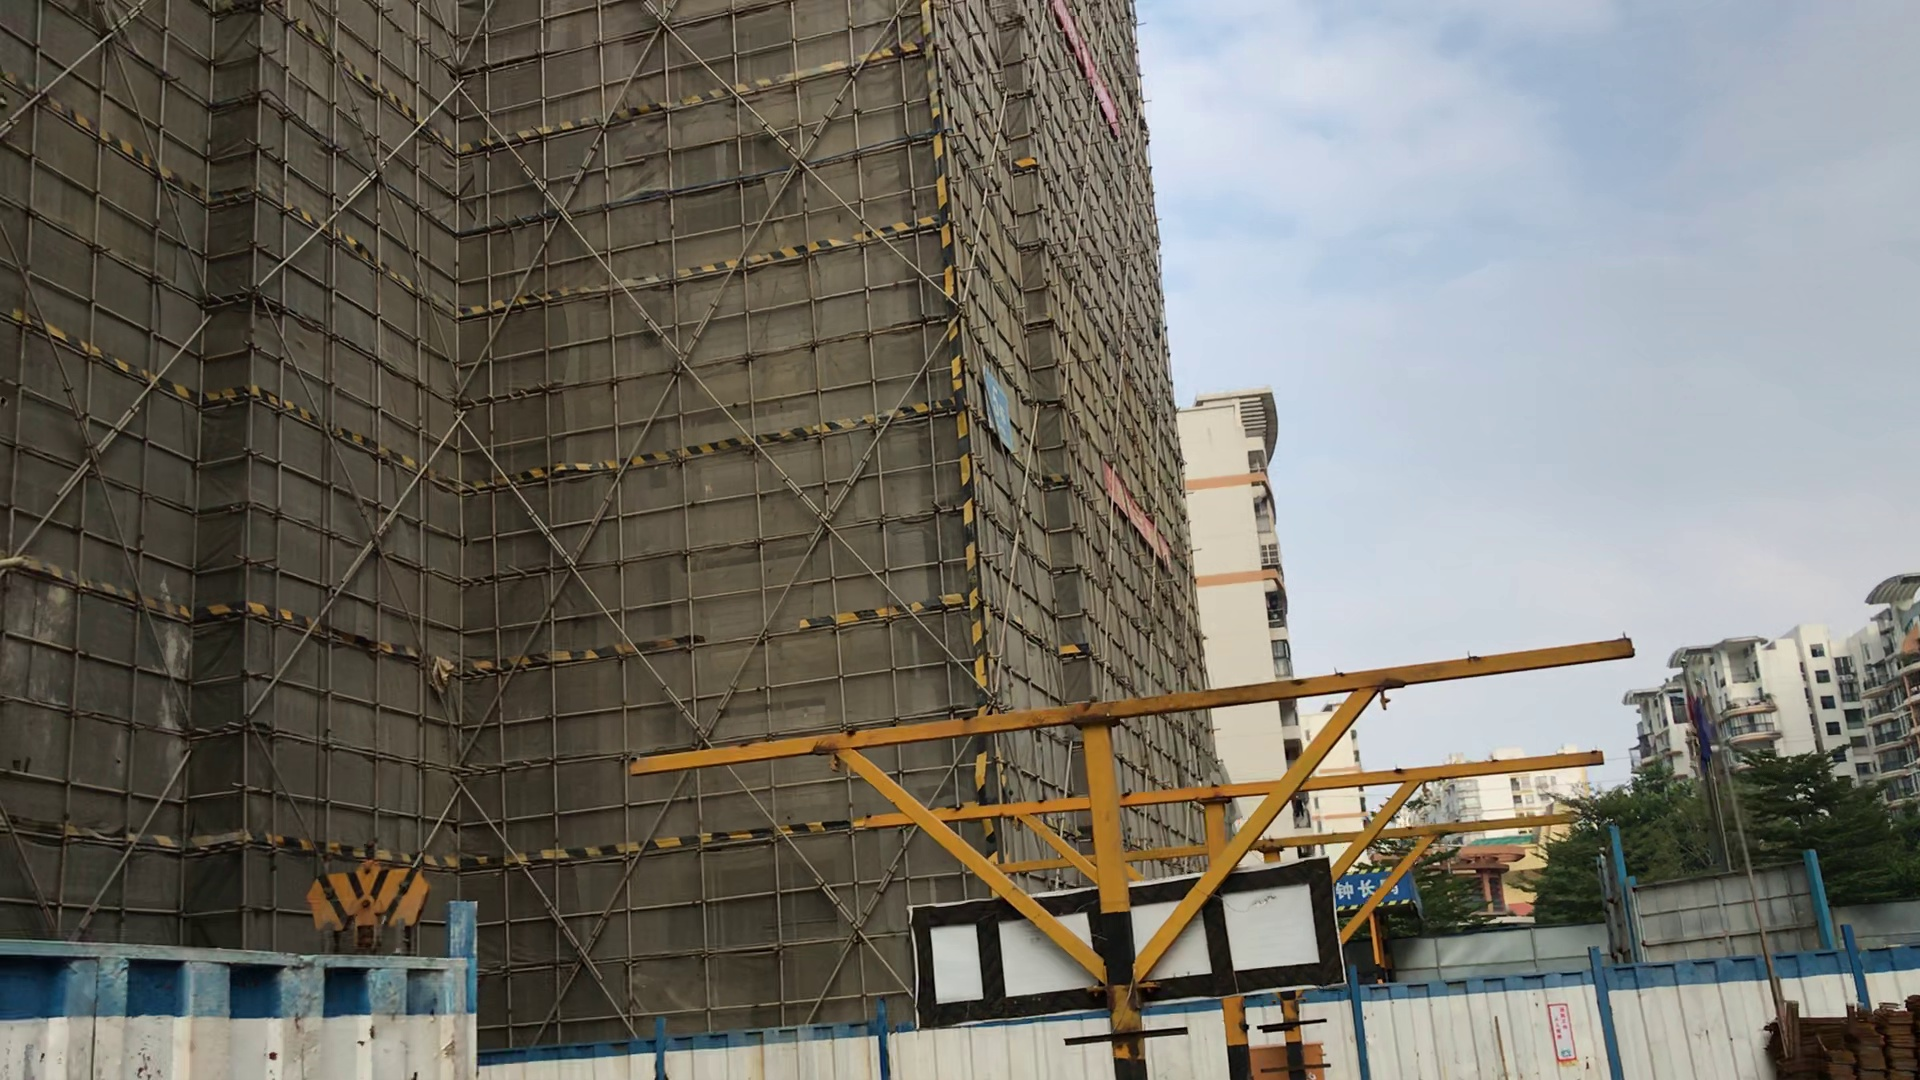hook: (301, 841, 438, 949)
slogan: (1337, 870, 1419, 905)
